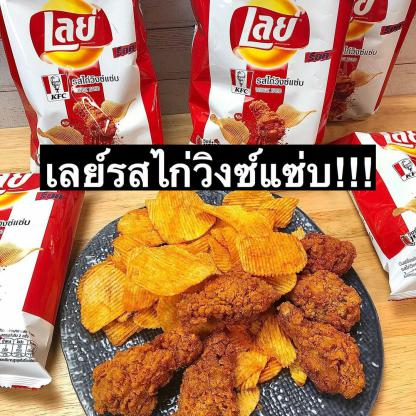potatochip: (0, 0, 166, 179), (191, 0, 351, 185), (0, 167, 89, 391), (272, 0, 416, 126), (324, 126, 415, 300)
